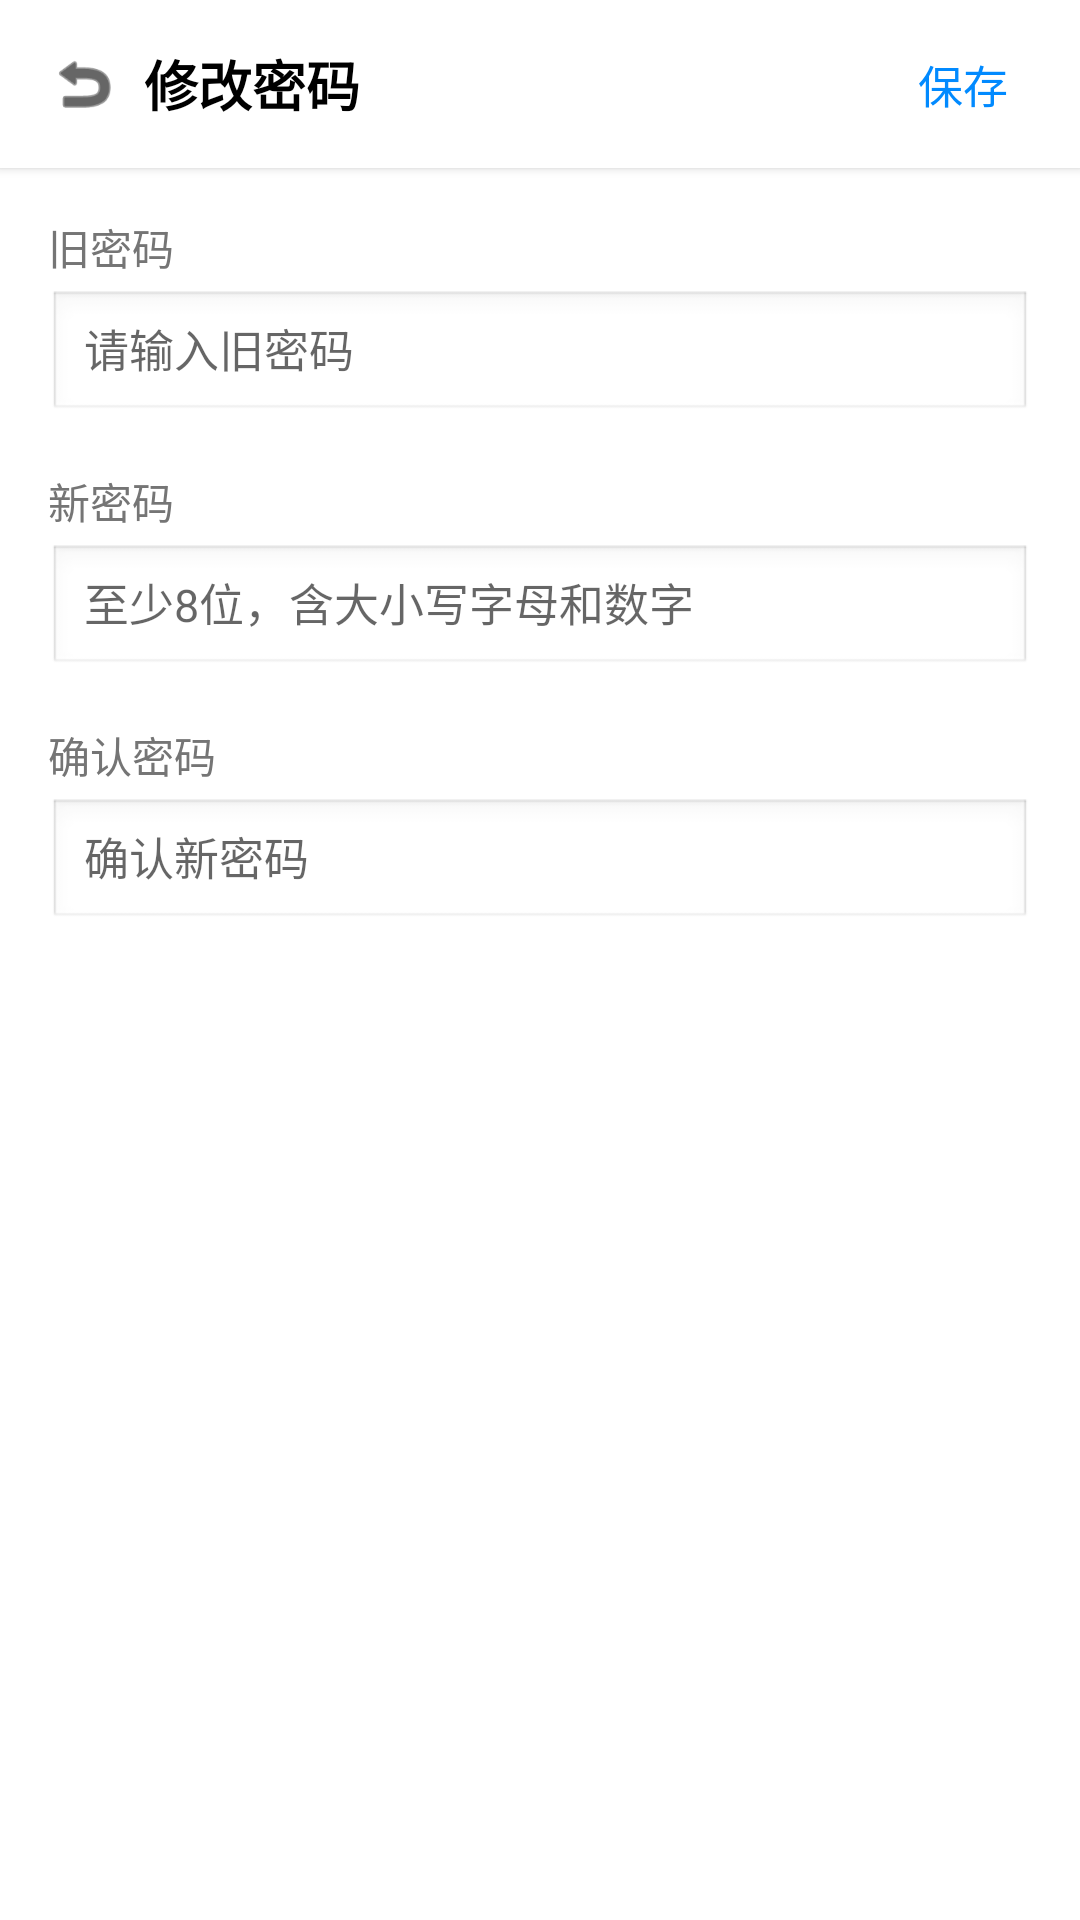

Icon bounding boxes for this 1080w x 1920h phone screenshot, format bbox(x1, y1, x2, y2):
返回: bbox(59, 61, 111, 108)
